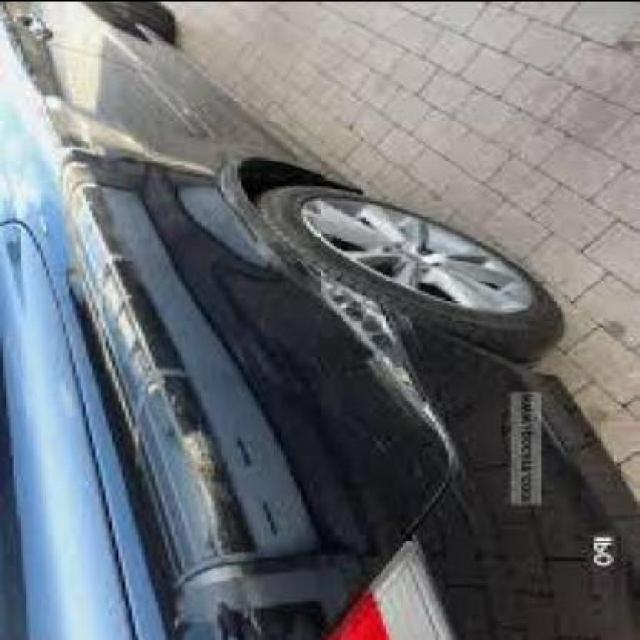damage: (304, 276, 487, 478)
